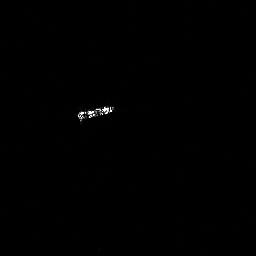ship: (72, 102, 118, 124)
